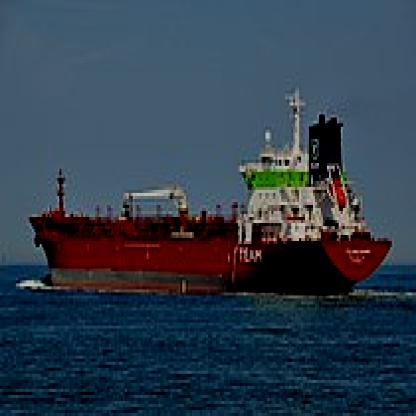Tanker: (22, 78, 396, 298)
